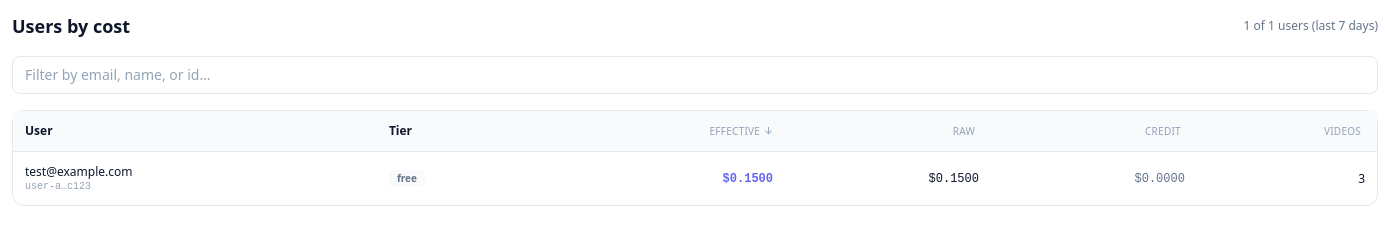
Test case: UsersPage › should filter users by email
The width and height of the screenshot is (1390, 234).
Expected: the text "test@example.com" is shown, [25, 163, 132, 180]
In the search field with test id "users-filter": (695,75) [12, 56, 1378, 94], type "nomatch"
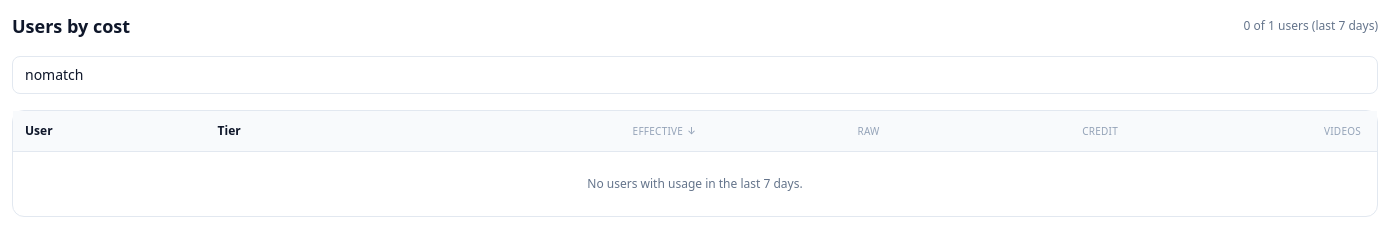
Expected: the text "test@example.com" is gone
